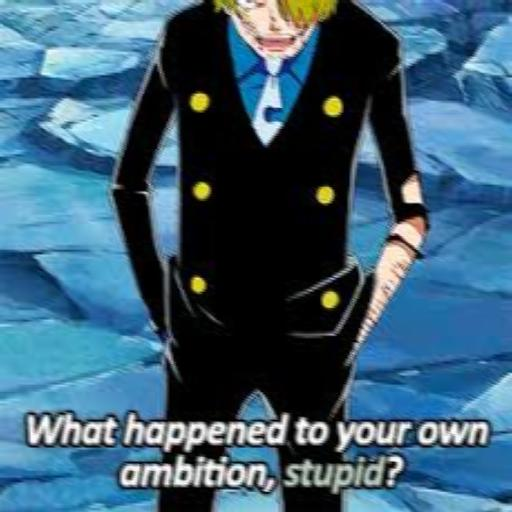sanji: (96, 0, 444, 414)
